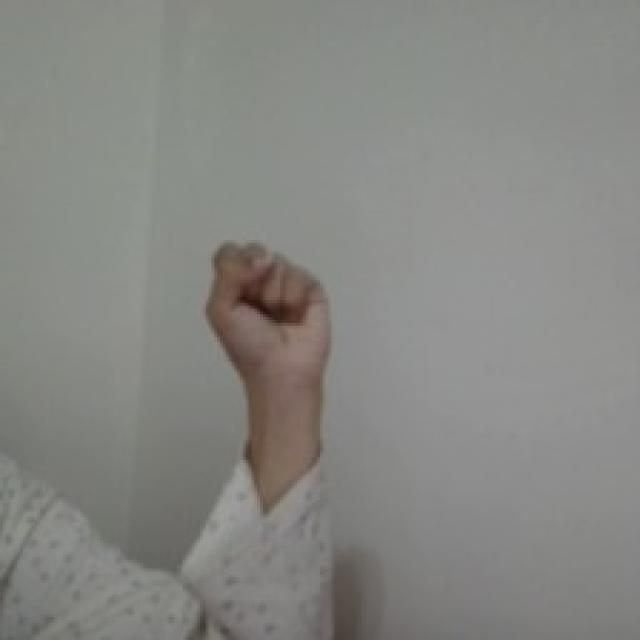yes: (203, 236, 337, 385)
